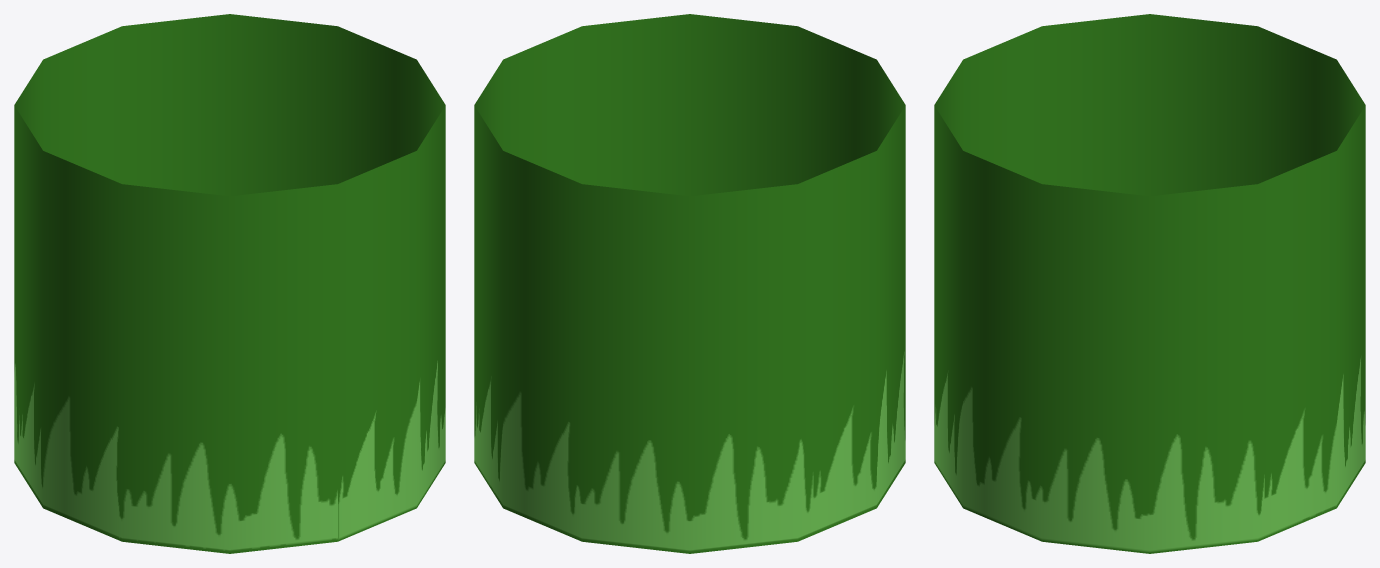
The model's file is kusa.FBX.
The picture shows the model from 3 angles, left to right: view 1: azimuth 30°, elevation 25°; view 2: azimuth 150°, elevation 25°; view 3: azimuth 270°, elevation 25°; orthographic projection.
Parts seen in each view (by area): view 1: Cylinder001; view 2: Cylinder001; view 3: Cylinder001.
Part boxes in pixels (box(x1,y1,x2,y2)): Cylinder001: box(14, 14, 445, 553); Cylinder001: box(474, 14, 905, 553); Cylinder001: box(934, 14, 1365, 553).
Bounding box in the file's own units: 6432 × 5882 × 6432.
